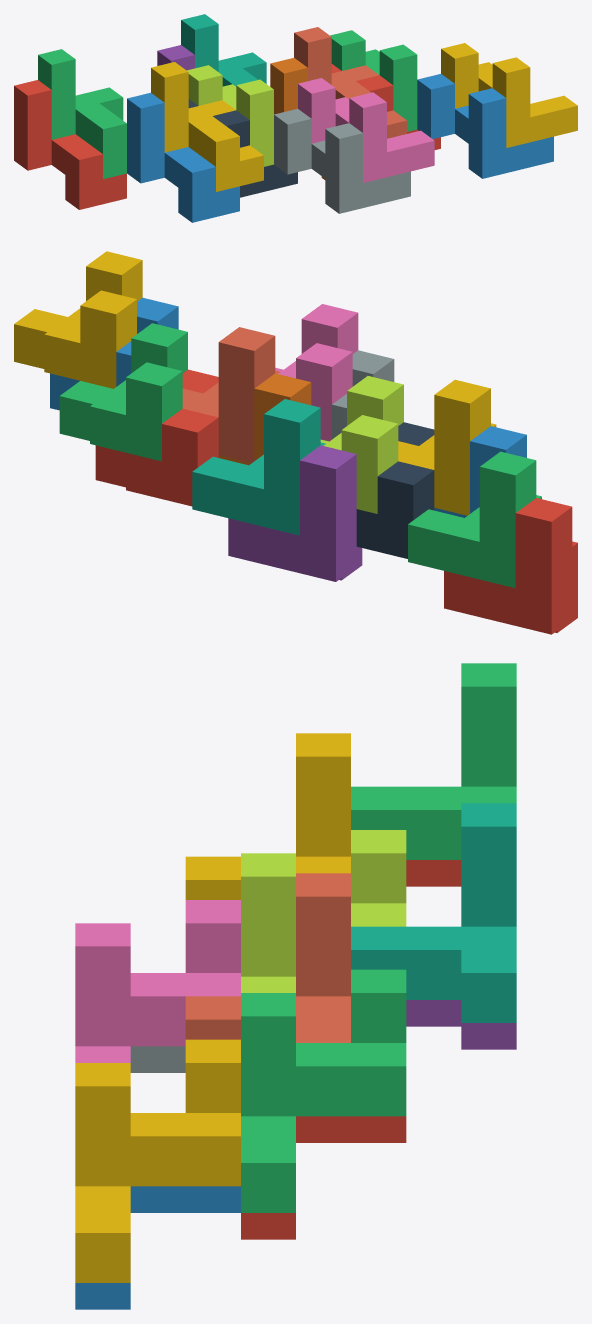
Rendered from tiling.obj.
The picture shows the model from 3 angles, top to bottom: view 1: azimuth 30°, elevation 25°; view 2: azimuth 150°, elevation 25°; view 3: azimuth 270°, elevation 25°; orthographic projection. The views are drawn at different scales.
Visible parts, largest first — view 1: copy_2_domain_6, copy_2_domain_2, copy_1_domain_2, copy_1_domain_1, copy_1_domain_4, copy_2_domain_8, copy_2_domain_4, copy_1_domain_3, copy_2_domain_7, copy_2_domain_3, copy_1_domain_8, copy_1_domain_7 (+4 smaller); view 2: copy_1_domain_1, copy_2_domain_7, copy_2_domain_8, copy_1_domain_5, copy_1_domain_3, copy_1_domain_7, copy_2_domain_5, copy_1_domain_8, copy_1_domain_4, copy_2_domain_3, copy_2_domain_4, copy_2_domain_1 (+4 smaller); view 3: copy_2_domain_8, copy_2_domain_7, copy_1_domain_7, copy_2_domain_4, copy_1_domain_3, copy_2_domain_3, copy_1_domain_8, copy_1_domain_4, copy_2_domain_6, copy_2_domain_5, copy_1_domain_5, copy_1_domain_1 (+1 smaller).
Part boxes in pixels (x1,y1,x2,y2): copy_2_domain_6: [417, 74, 553, 178]; copy_2_domain_2: [274, 108, 410, 213]; copy_1_domain_2: [127, 92, 239, 222]; copy_1_domain_1: [14, 80, 126, 209]; copy_1_domain_4: [151, 62, 263, 191]; copy_2_domain_8: [441, 43, 577, 147]; copy_2_domain_4: [298, 78, 434, 182]; copy_1_domain_3: [38, 49, 126, 179]; copy_2_domain_7: [330, 30, 417, 131]; copy_2_domain_3: [187, 65, 273, 166]; copy_1_domain_8: [294, 27, 406, 138]; copy_1_domain_7: [181, 14, 266, 86]; copy_1_domain_1: [444, 498, 577, 634]; copy_2_domain_7: [59, 323, 187, 461]; copy_2_domain_8: [14, 251, 142, 388]; copy_1_domain_5: [228, 445, 362, 581]; copy_1_domain_3: [408, 451, 541, 588]; copy_1_domain_7: [192, 399, 325, 535]; copy_2_domain_5: [95, 369, 218, 506]; copy_1_domain_8: [182, 327, 280, 462]; copy_1_domain_4: [398, 379, 496, 515]; copy_2_domain_3: [320, 376, 403, 513]; copy_2_domain_4: [275, 304, 358, 441]; copy_2_domain_1: [356, 422, 434, 558]; copy_2_domain_8: [75, 1039, 240, 1282]; copy_2_domain_7: [241, 969, 406, 1212]; copy_1_domain_7: [351, 803, 516, 1022]; copy_2_domain_4: [75, 900, 240, 1062]; copy_1_domain_3: [351, 663, 516, 859]; copy_2_domain_3: [241, 830, 406, 992]; copy_1_domain_8: [185, 873, 350, 1042]; copy_1_domain_4: [185, 733, 350, 899]; copy_2_domain_6: [75, 1186, 240, 1309]; copy_2_domain_5: [241, 1116, 406, 1239]; copy_1_domain_5: [406, 1000, 516, 1049]; copy_1_domain_1: [406, 860, 461, 886].
Bounding box in the file's own units: 19 × 5 × 8.
